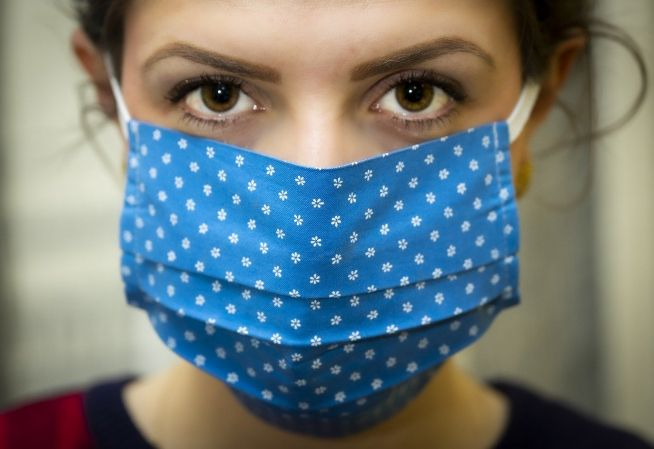with_mask: (130, 25, 536, 433)
